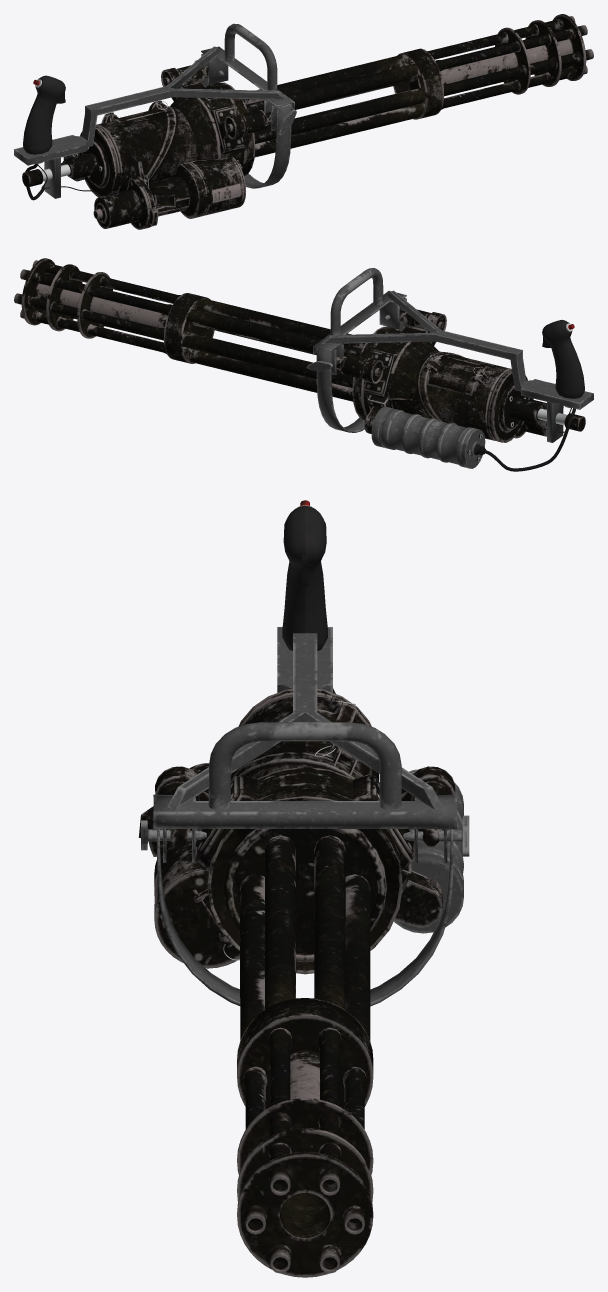
File: minigun.glb
The picture shows the model from 3 angles, top to bottom: view 1: azimuth 30°, elevation 25°; view 2: azimuth 150°, elevation 25°; view 3: azimuth 270°, elevation 25°; orthographic projection. The views are drawn at different scales.
Visible parts, largest first — view 1: stvol_low_m134_0, base_low_m134_0, podavatel_low_m134_0, kozhuh_low_m134_0, rogatka_low_m134_0, derzhatel_low_m134_0, grip_low_m134_0, rama_low_m134_0, rama_lenta_low_m134_0, rama_grip_low_m134_0, truba_low_m134_0, kryshka_low_m134_0; view 2: stvol_low_m134_0, base_low_m134_0, kozhuh_low_m134_0, rogatka_low_m134_0, generator_low_m134_0, derzhatel_low_m134_0, grip_low_m134_0, kryshka_low_m134_0, rama_low_m134_0, rama_lenta_low_m134_0, rama_grip_low_m134_0, shlang_low_m134_0 (+2 smaller); view 3: stvol_low_m134_0, kozhuh_low_m134_0, base_low_m134_0, rama_low_m134_0, block_stvolov_low_m134_0, rogatka_low_m134_0, rama_grip_low_m134_0, podavatel_low_m134_0, grip_low_m134_0, derzhatel_low_m134_0, rama_lenta_low_m134_0, generator_low_m134_0 (+3 smaller).
Part boxes in pixels (x1,y1,x2,y2): stvol_low_m134_0: (242,16,593,157); base_low_m134_0: (22,82,255,196); podavatel_low_m134_0: (93,156,245,229); kozhuh_low_m134_0: (393,14,586,119); rogatka_low_m134_0: (14,46,287,198); derzhatel_low_m134_0: (161,65,271,154); grip_low_m134_0: (23,75,65,154); rama_low_m134_0: (201,46,294,130); rama_lenta_low_m134_0: (203,78,291,188); rama_grip_low_m134_0: (224,23,277,90); truba_low_m134_0: (150,186,175,210); kryshka_low_m134_0: (105,101,164,122); stvol_low_m134_0: (14,260,365,401); base_low_m134_0: (352,326,585,442); kozhuh_low_m134_0: (21,258,214,363); rogatka_low_m134_0: (320,290,593,442); generator_low_m134_0: (371,406,485,468); derzhatel_low_m134_0: (336,309,446,399); grip_low_m134_0: (542,320,584,398); kryshka_low_m134_0: (426,355,487,395); rama_low_m134_0: (313,291,406,375); rama_lenta_low_m134_0: (316,322,404,432); rama_grip_low_m134_0: (330,268,383,334); shlang_low_m134_0: (483,408,575,471); stvol_low_m134_0: (240,835,370,1273); kozhuh_low_m134_0: (237,998,373,1277); base_low_m134_0: (207,689,402,974); rama_low_m134_0: (153,794,456,863); block_stvolov_low_m134_0: (223,829,386,962); rogatka_low_m134_0: (167,627,442,809); rama_grip_low_m134_0: (208,722,401,809); podavatel_low_m134_0: (148,763,239,968); grip_low_m134_0: (282,500,327,650); derzhatel_low_m134_0: (155,766,455,870); rama_lenta_low_m134_0: (157,829,453,1006); generator_low_m134_0: (394,769,463,933).
Size of the model in its own units: 1 by 0.2637 by 0.2565.
1 material, 1 textured.
